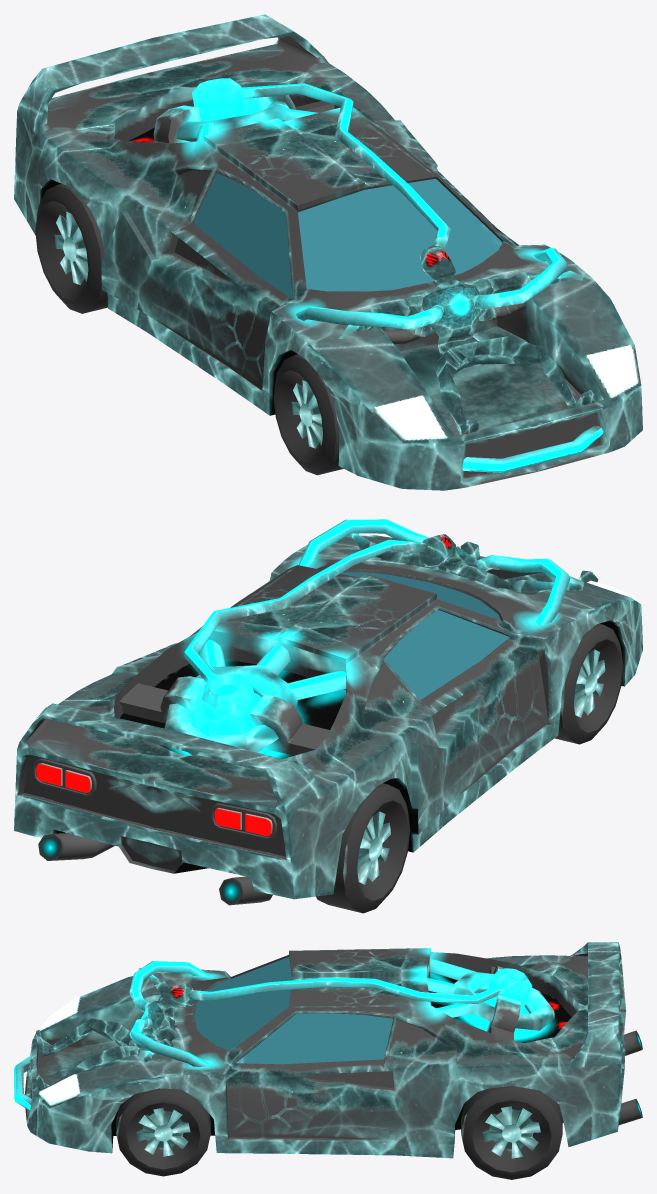
File: CoinRarri-Mutate.fbx
3 renders of one model, top to bottom at view 1: azimuth 30°, elevation 25°; view 2: azimuth 150°, elevation 25°; view 3: azimuth 270°, elevation 25°, orthographic. The views are drawn at different scales.
Parts seen in each view (by area): view 1: CoinrariMutate, CoinrariMWheel-BR, CoinrariMWheel-FR; view 2: CoinrariMutate, CoinrariMWheel-BR, CoinrariMWheel-FR; view 3: CoinrariMutate, CoinrariMWheel-BL, CoinrariMWheel-FL.
Boxes of the visible parts, x1,y1,x2,y2 form: CoinrariMutate: (14, 14, 642, 490); CoinrariMWheel-BR: (35, 184, 107, 313); CoinrariMWheel-FR: (273, 354, 343, 475); CoinrariMutate: (14, 519, 642, 905); CoinrariMWheel-BR: (316, 783, 410, 913); CoinrariMWheel-FR: (555, 623, 623, 744); CoinrariMutate: (14, 942, 642, 1158); CoinrariMWheel-BL: (461, 1086, 562, 1179); CoinrariMWheel-FL: (116, 1088, 210, 1176).
Bounding box in the file's own units: 202 × 122 × 448.
